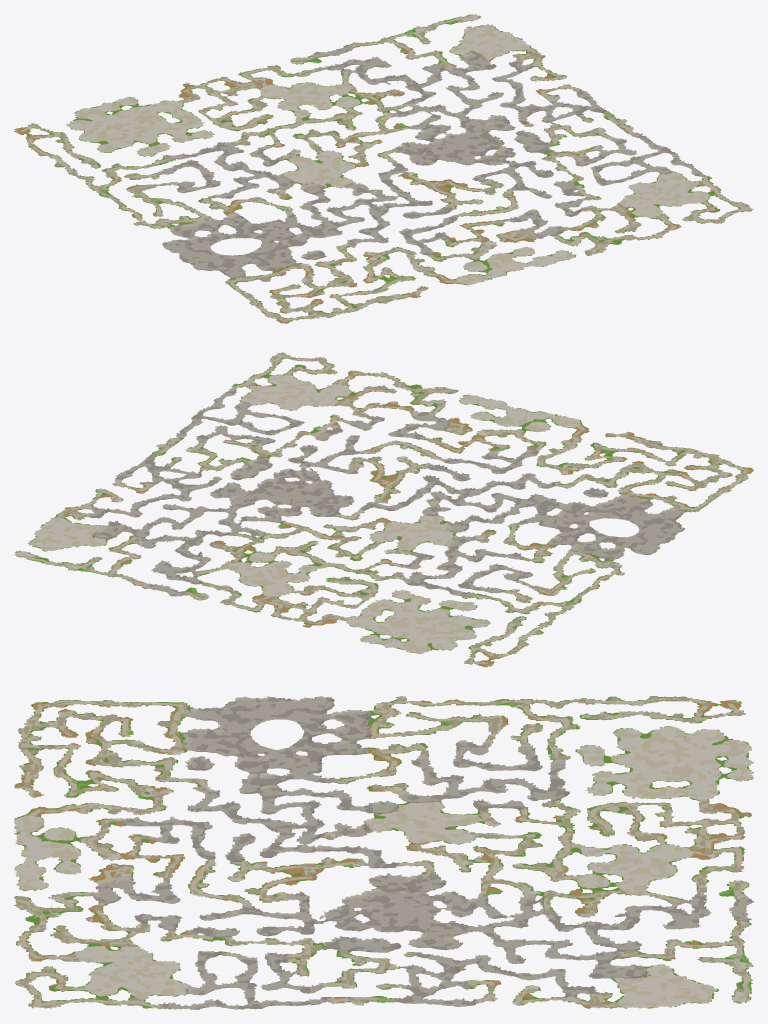
The model's file is Dungeon-2D-Ground.fbx.
3 views of the same model, one above another, from view 1: azimuth 30°, elevation 25°; view 2: azimuth 150°, elevation 25°; view 3: azimuth 270°, elevation 25° (orthographic). The views are drawn at different scales.
Parts seen in each view (by area): view 1: Dungeon-2D-Ground-c17, Dungeon-2D-Ground-c54, Dungeon-2D-Ground-c46, Dungeon-2D-Ground-c76, Dungeon-2D-Ground-c34, Dungeon-2D-Ground-c03, Dungeon-2D-Ground-c71, Dungeon-2D-Ground-c12, Dungeon-2D-Ground-c53, Dungeon-2D-Ground-c02, Dungeon-2D-Ground-c16, Dungeon-2D-Ground-c13 (+52 smaller); view 2: Dungeon-2D-Ground-c17, Dungeon-2D-Ground-c54, Dungeon-2D-Ground-c46, Dungeon-2D-Ground-c76, Dungeon-2D-Ground-c34, Dungeon-2D-Ground-c71, Dungeon-2D-Ground-c12, Dungeon-2D-Ground-c53, Dungeon-2D-Ground-c03, Dungeon-2D-Ground-c02, Dungeon-2D-Ground-c16, Dungeon-2D-Ground-c30 (+52 smaller); view 3: Dungeon-2D-Ground-c17, Dungeon-2D-Ground-c54, Dungeon-2D-Ground-c46, Dungeon-2D-Ground-c34, Dungeon-2D-Ground-c71, Dungeon-2D-Ground-c76, Dungeon-2D-Ground-c03, Dungeon-2D-Ground-c02, Dungeon-2D-Ground-c12, Dungeon-2D-Ground-c16, Dungeon-2D-Ground-c53, Dungeon-2D-Ground-c30 (+52 smaller).
Boxes of the visible parts, bbox=[...] form: Dungeon-2D-Ground-c17: bbox=[71, 99, 153, 137]; Dungeon-2D-Ground-c54: bbox=[415, 116, 501, 156]; Dungeon-2D-Ground-c46: bbox=[276, 83, 371, 119]; Dungeon-2D-Ground-c76: bbox=[459, 36, 545, 70]; Dungeon-2D-Ground-c34: bbox=[287, 145, 368, 185]; Dungeon-2D-Ground-c03: bbox=[150, 215, 228, 254]; Dungeon-2D-Ground-c71: bbox=[640, 164, 720, 203]; Dungeon-2D-Ground-c12: bbox=[249, 227, 324, 267]; Dungeon-2D-Ground-c53: bbox=[442, 142, 535, 181]; Dungeon-2D-Ground-c02: bbox=[179, 248, 269, 276]; Dungeon-2D-Ground-c16: bbox=[94, 123, 180, 156]; Dungeon-2D-Ground-c13: bbox=[199, 200, 294, 238]; Dungeon-2D-Ground-c17: bbox=[369, 618, 464, 653]; Dungeon-2D-Ground-c54: bbox=[229, 481, 325, 519]; Dungeon-2D-Ground-c46: bbox=[225, 547, 315, 587]; Dungeon-2D-Ground-c76: bbox=[40, 505, 122, 543]; Dungeon-2D-Ground-c34: bbox=[352, 517, 448, 550]; Dungeon-2D-Ground-c71: bbox=[214, 374, 309, 408]; Dungeon-2D-Ground-c12: bbox=[546, 490, 641, 526]; Dungeon-2D-Ground-c53: bbox=[264, 455, 358, 495]; Dungeon-2D-Ground-c03: bbox=[572, 534, 660, 567]; Dungeon-2D-Ground-c02: bbox=[623, 504, 684, 543]; Dungeon-2D-Ground-c16: bbox=[404, 599, 483, 633]; Dungeon-2D-Ground-c30: bbox=[494, 409, 583, 445]; Dungeon-2D-Ground-c17: bbox=[662, 733, 753, 773]; Dungeon-2D-Ground-c54: bbox=[383, 891, 477, 932]; Dungeon-2D-Ground-c46: bbox=[570, 852, 664, 892]; Dungeon-2D-Ground-c34: bbox=[383, 812, 478, 852]; Dungeon-2D-Ground-c71: bbox=[103, 969, 198, 1009]; Dungeon-2D-Ground-c76: bbox=[569, 970, 664, 1008]; Dungeon-2D-Ground-c03: bbox=[289, 696, 384, 735]; Dungeon-2D-Ground-c02: bbox=[197, 696, 291, 735]; Dungeon-2D-Ground-c12: bbox=[197, 735, 291, 774]; Dungeon-2D-Ground-c16: bbox=[575, 733, 664, 773]; Dungeon-2D-Ground-c53: bbox=[290, 891, 384, 932]; Dungeon-2D-Ground-c30: bbox=[14, 812, 105, 852].
Bounding box in the file's own units: 131 × 0.3168 × 131.
